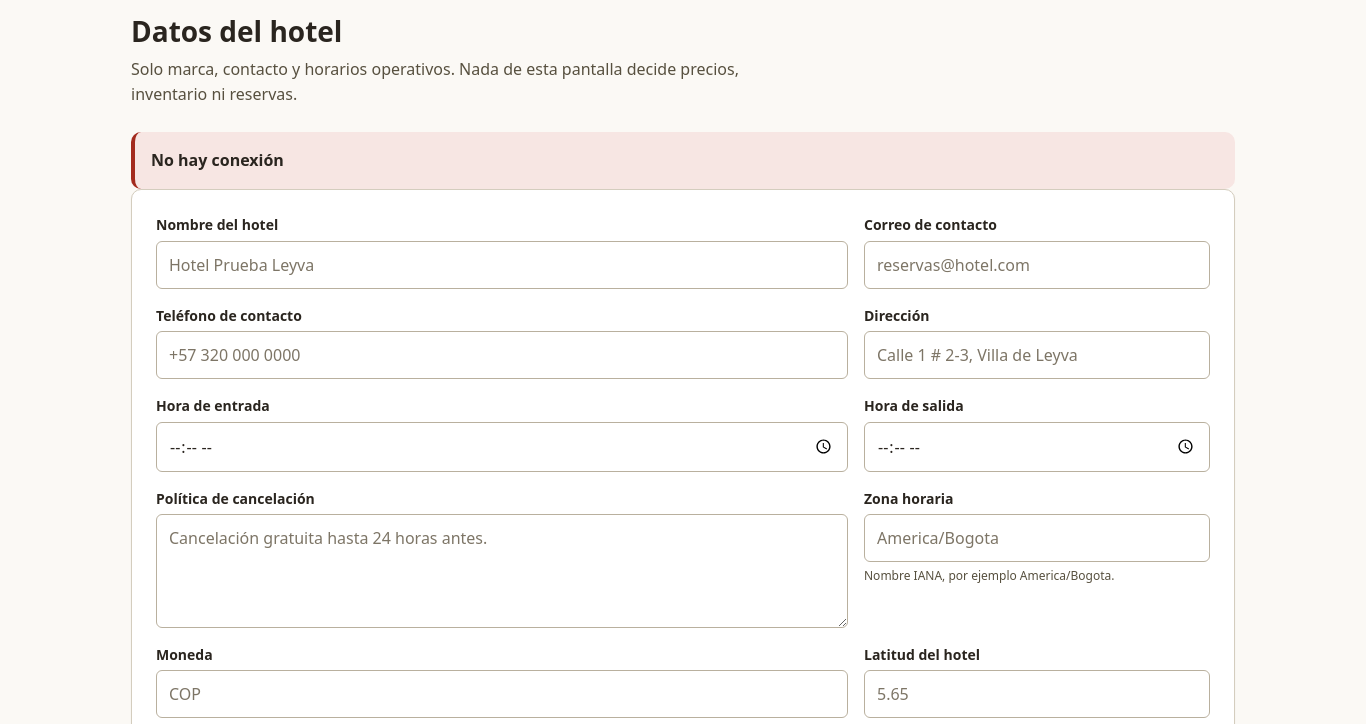
it: configuración del hotel durante la carga › permite reingresar un código de moneda no listado si falla la lectura
Check: the message "No hay conexión" is shown, box [131, 132, 1235, 189]
Type "Hotel actualizado" into the field labelled "Nombre del hotel" at (502, 265), box [156, 241, 848, 289]
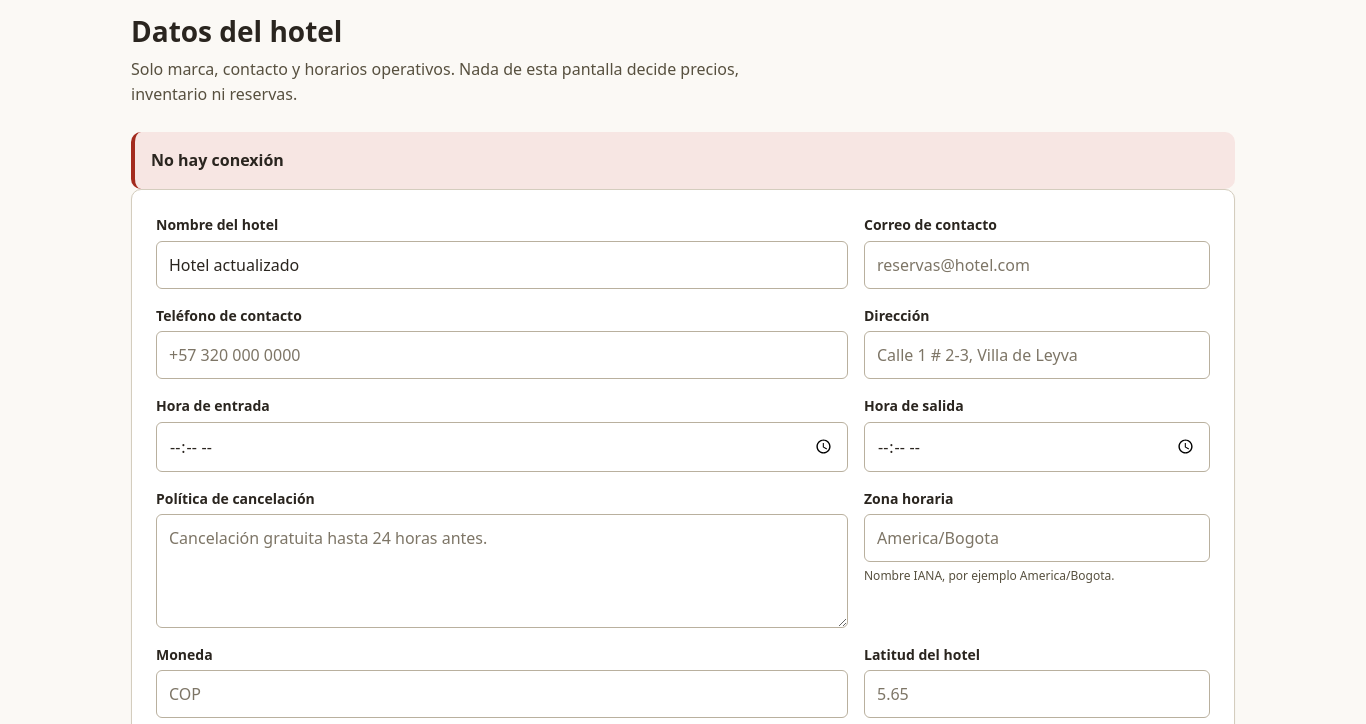
Type "CHF" into the field labelled "Moneda" at (502, 694), box [156, 670, 848, 718]
(page scrolled)
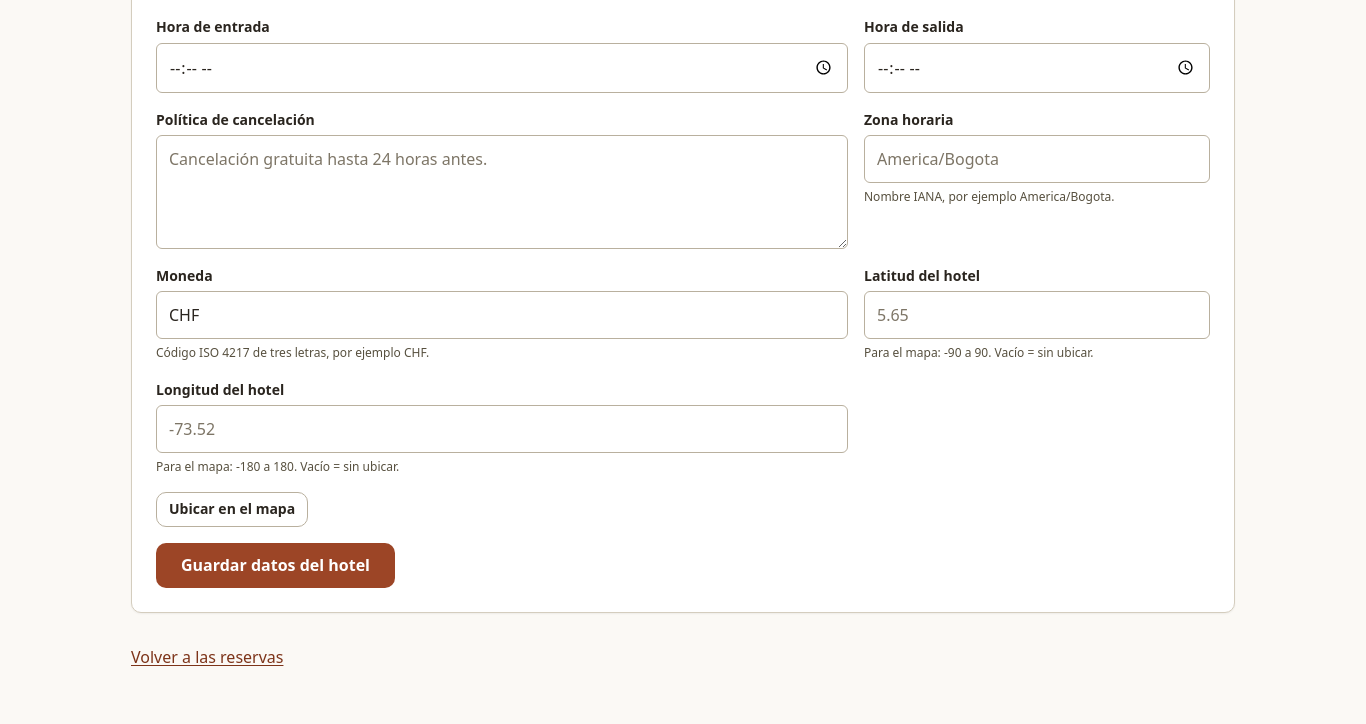
Click the button "Guardar datos del hotel" at (276, 566), box [156, 543, 395, 588]
(page scrolled)
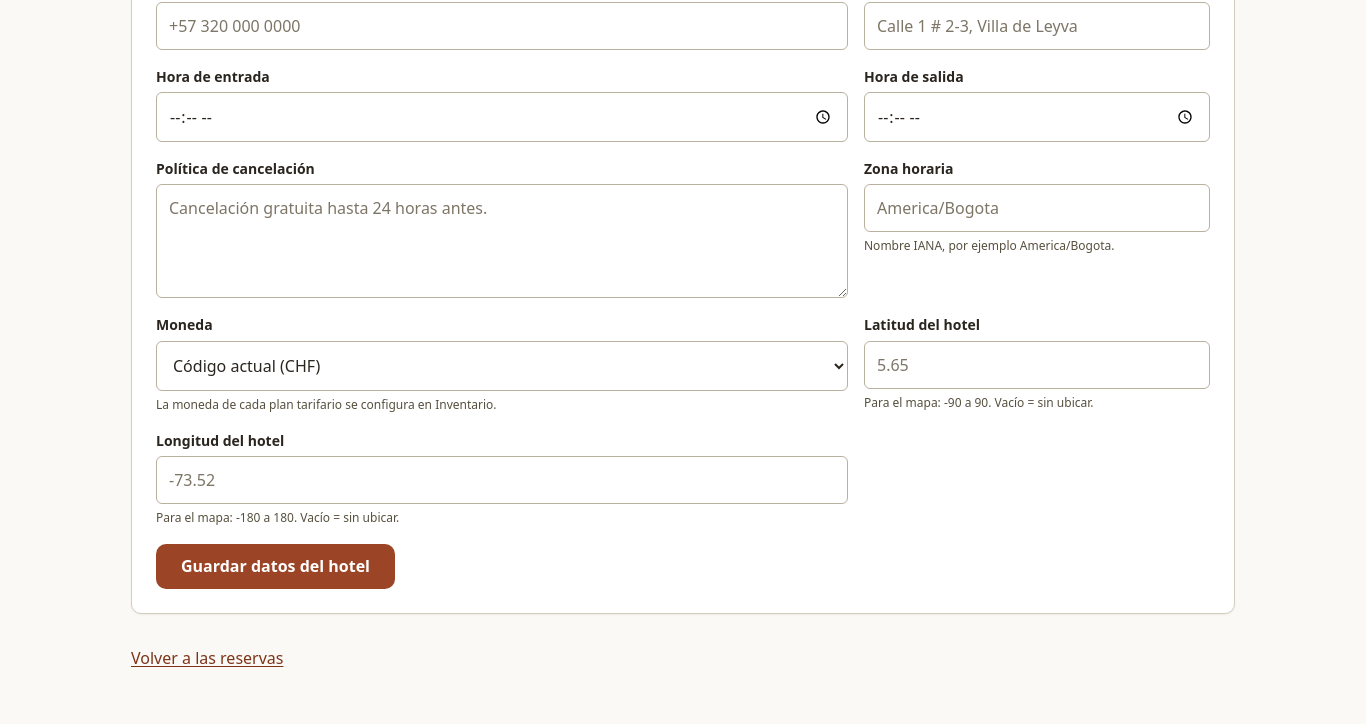
Check: the dropdown labelled "Moneda" shows "Código actual (CHF)", box [156, 341, 848, 391]
